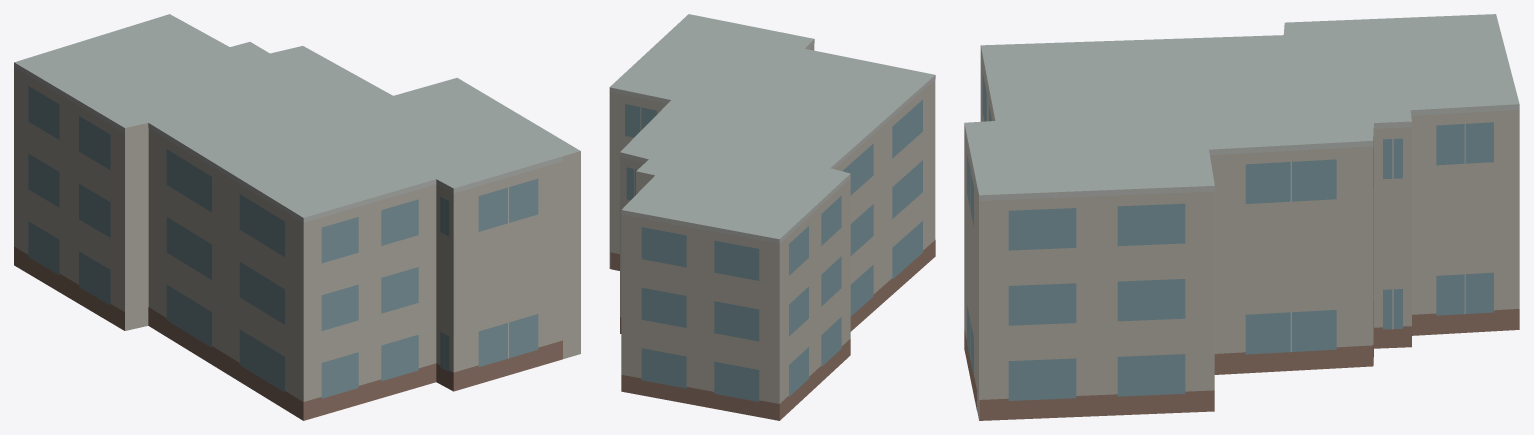
The model's file is survey-upis-33043161.glb.
3 views of the same model, side by side, from view 1: azimuth 30°, elevation 25°; view 2: azimuth 150°, elevation 25°; view 3: azimuth 270°, elevation 25° (orthographic). The views are drawn at different scales.
Visible parts, largest first — view 1: survey-upis-33043161.tmp; view 2: survey-upis-33043161.tmp; view 3: survey-upis-33043161.tmp.
Part boxes in pixels (x1,y1,x2,y2): survey-upis-33043161.tmp: (14, 14, 580, 420); survey-upis-33043161.tmp: (609, 14, 935, 420); survey-upis-33043161.tmp: (964, 14, 1519, 420).
Size of the model in its own units: 16.9 by 9.8 by 21.87.
